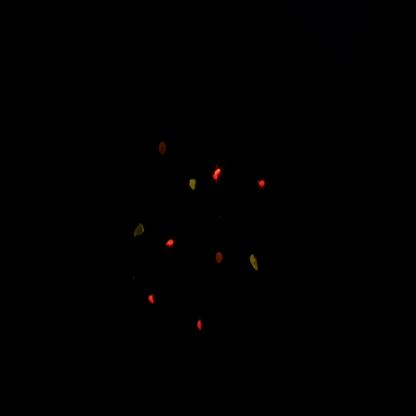PET: (255, 168, 271, 205), (193, 306, 208, 342)
PP: (245, 247, 265, 283), (131, 214, 149, 248), (185, 171, 202, 199)
PS: (213, 245, 228, 275), (155, 136, 171, 162)
PVC: (143, 284, 162, 316), (210, 157, 227, 190), (164, 228, 179, 262)
